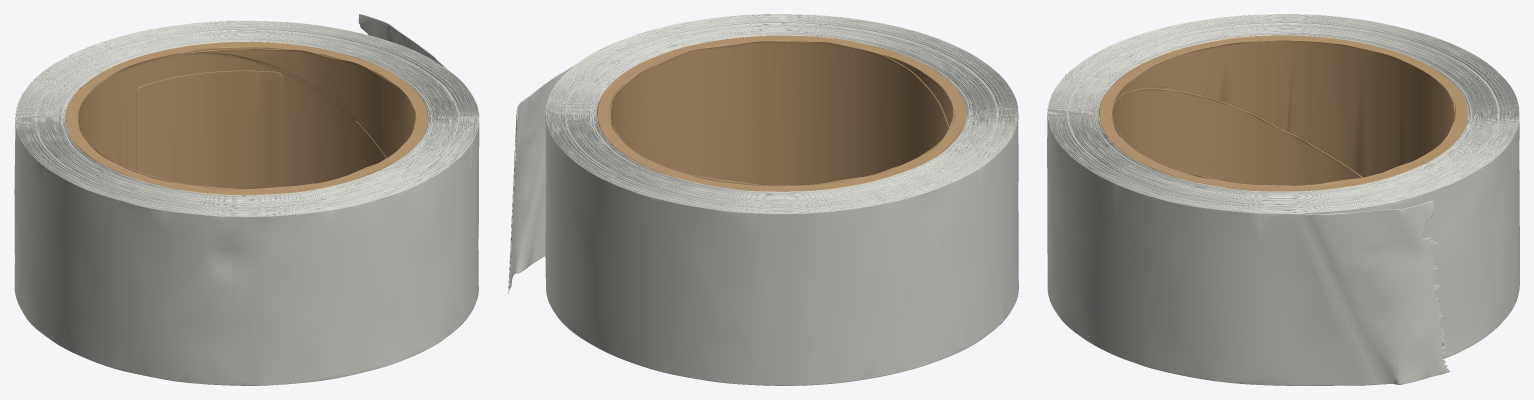
File: tool_tape_duct_a02.glb
3 renders of one model, left to right at view 1: azimuth 30°, elevation 25°; view 2: azimuth 150°, elevation 25°; view 3: azimuth 270°, elevation 25°, orthographic.
Bounding box in the file's own units: 0.1113 × 0.0466 × 0.11.
